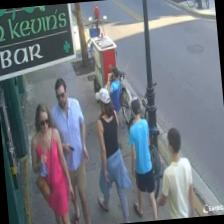person: (45, 77, 94, 224), (88, 86, 130, 224), (27, 101, 74, 224), (124, 95, 159, 222), (152, 126, 196, 220)
